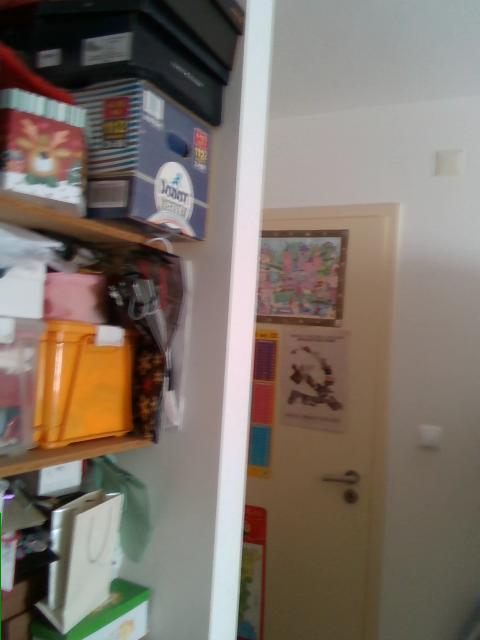door: (238, 202, 399, 637)
